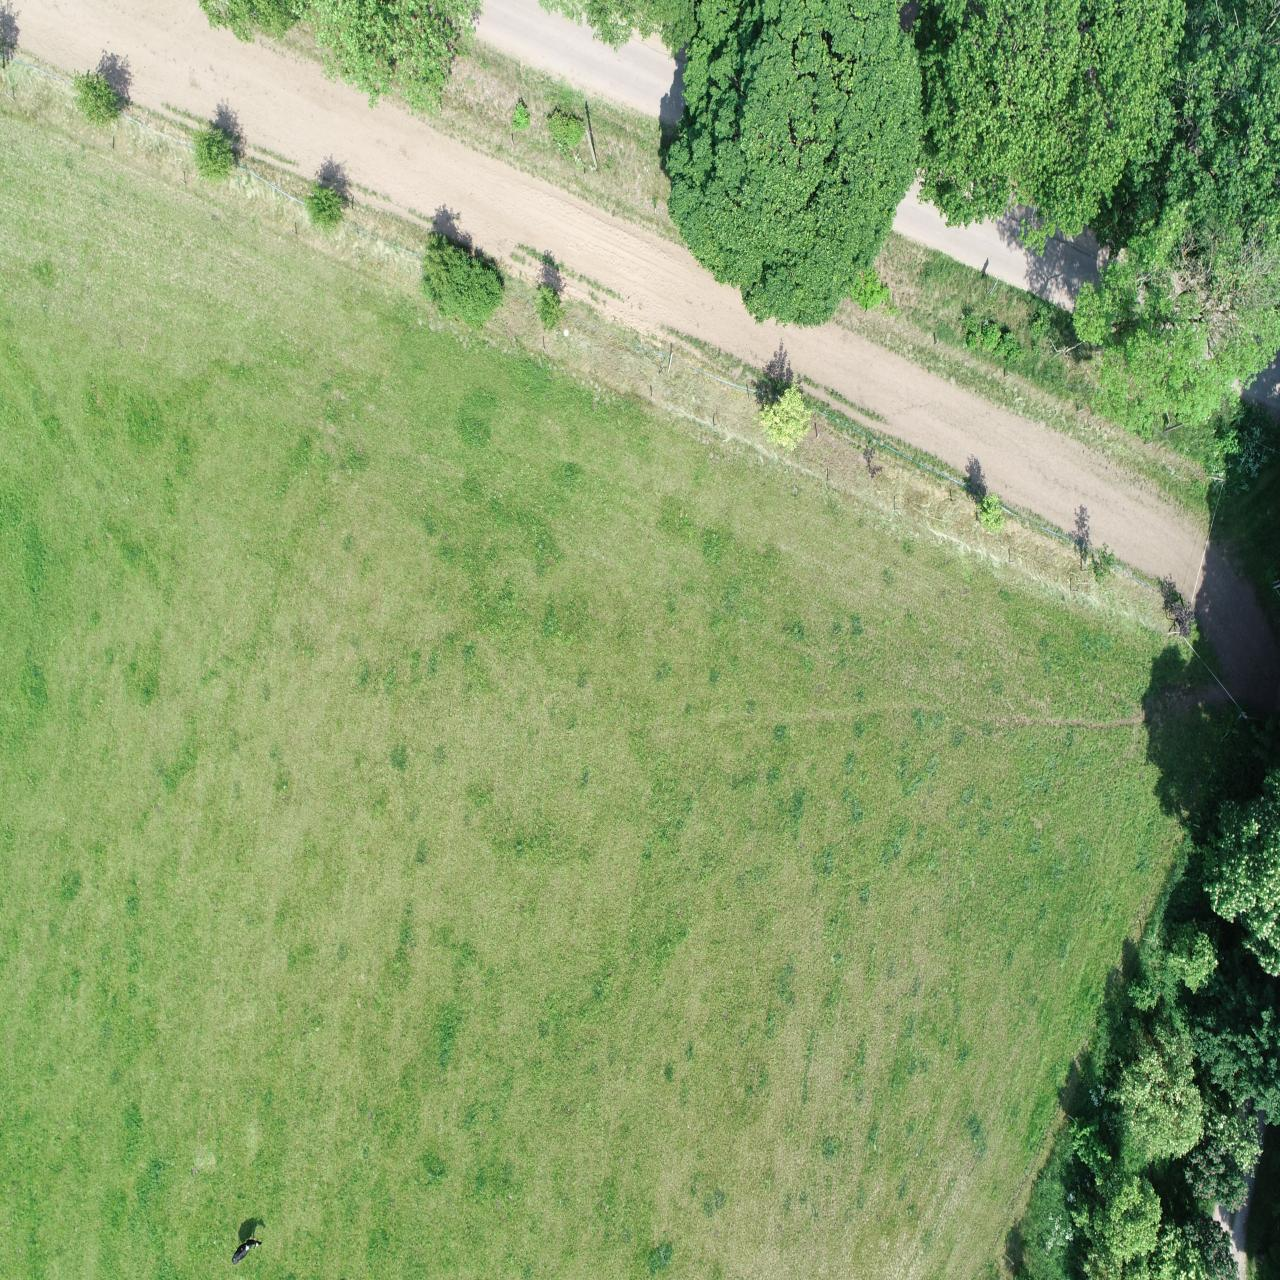cow: (227, 1233, 266, 1271)
